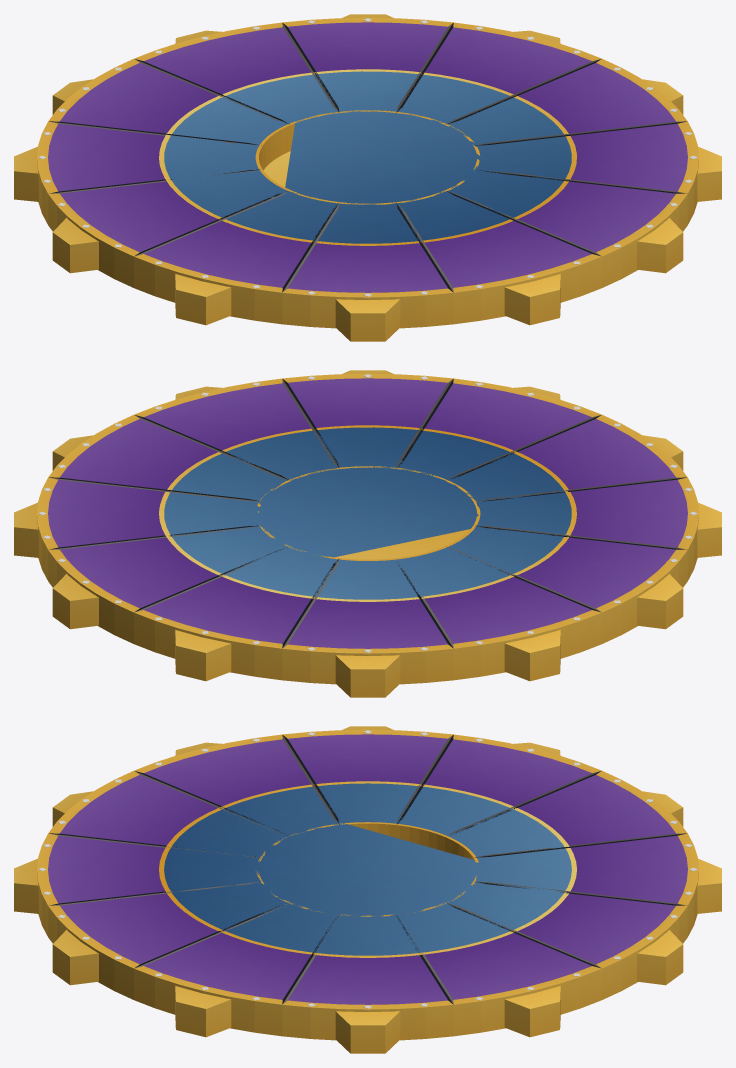
The model's file is boss_1_arena_col.fbx.
The picture shows the model from 3 angles, top to bottom: view 1: azimuth 30°, elevation 25°; view 2: azimuth 150°, elevation 25°; view 3: azimuth 270°, elevation 25°; orthographic projection.
Parts seen in each view (by area): view 1: Circle.002, Cylinder.005; view 2: Circle.002, Cylinder.005; view 3: Circle.002, Cylinder.005.
Boxes of the visible parts, box(x1,y1,x2,y2) form: Circle.002: box(14, 14, 721, 341); Cylinder.005: box(159, 69, 576, 245); Circle.002: box(14, 370, 721, 697); Cylinder.005: box(159, 425, 576, 601); Circle.002: box(14, 726, 721, 1053); Cylinder.005: box(159, 781, 576, 957).
Bounding box in the file's own units: 4063 × 220 × 4063.
